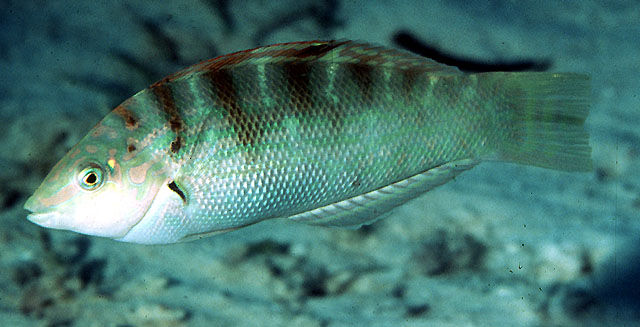fish: (25, 38, 594, 245)
